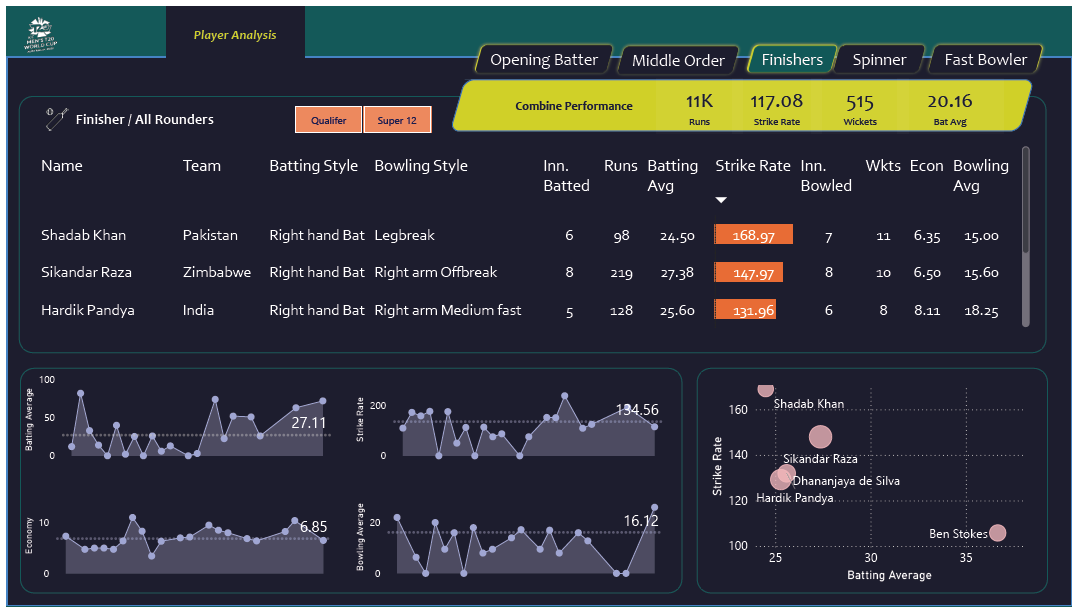

What the dashboard file says about the page in this screenshot:
{"tool":"powerbi","page":{"name":"Finishers/All Rounders","canvas":[1280,720],"ordinal":2},"visuals":[{"type":"shape","box":[0,60,1279.8,660.5],"z":0},{"type":"group","id":"g1","title":"Group 2","box":[82.2,119.9,237.8,30.4],"z":0,"group":"g2"},{"type":"shape","box":[82.2,119.9,237.8,30.4],"z":0,"group":"g1"},{"type":"shape","box":[14.3,107.3,1235.3,309.3],"z":2000},{"type":"image","box":[38.5,117,44.2,35.7],"z":4000},{"type":"shape","box":[15.7,433.8,796.3,271.1],"z":6000},{"type":"shape","box":[829.1,433.8,422.4,271.1],"z":8000},{"type":"tableEx","fields":{"Values":["dim_players.name","dim_players.team","dim_players.battingStyle","dim_players.bowlingStyle","key_measures.Total Innings Batted","key_measures.Total Runs","key_measures.Batting Average","key_measures.Strike Rate","key_measures.Total Innings Bowled","key_measures.Wickets","key_measures.Economy","key_measures.Bowling Average"]},"box":[30,162.7,1204.4,226.9],"z":10000},{"type":"scatterChart","fields":{"Y":["key_measures.Strike Rate"],"X":["key_measures.Batting Average"],"Category":["fact_batting_summary.batsmanName"],"Size":["key_measures.Total Runs"]},"box":[840.5,442.4,393.8,252.6],"z":12000},{"type":"areaChart","fields":{"Y":["key_measures.Batting Average"],"Category":["dim_match_summary.matchDate.Variation.Date Hierarchy.Year","dim_match_summary.matchDate.Variation.Date Hierarchy.Month","dim_match_summary.matchDate.Variation.Date Hierarchy.Day"]},"box":[16.1,434.4,379,119.8],"z":13000},{"type":"areaChart","fields":{"Category":["dim_match_summary.matchDate.Variation.Date Hierarchy.Year","dim_match_summary.matchDate.Variation.Date Hierarchy.Month","dim_match_summary.matchDate.Variation.Date Hierarchy.Day"],"Y":["key_measures.Economy"]},"box":[15.7,575.1,379.6,119.9],"z":14000},{"type":"areaChart","fields":{"Category":["dim_match_summary.matchDate.Variation.Date Hierarchy.Year","dim_match_summary.matchDate.Variation.Date Hierarchy.Month","dim_match_summary.matchDate.Variation.Date Hierarchy.Day"],"Y":["key_measures.Bowling Average"]},"box":[413.8,575.1,379.6,119.9],"z":15000},{"type":"areaChart","fields":{"Category":["dim_match_summary.matchDate.Variation.Date Hierarchy.Year","dim_match_summary.matchDate.Variation.Date Hierarchy.Month","dim_match_summary.matchDate.Variation.Date Hierarchy.Day"],"Y":["key_measures.Strike Rate"]},"box":[413.8,433.8,379.6,119.9],"z":16000},{"type":"group","id":"g2","title":"Group 1","box":[82.2,119.9,237.8,30.4],"z":18000},{"type":"slicer","fields":{"Values":["dim_match_summary.Stages"]},"box":[320,110.8,214.5,48.3],"z":19000},{"type":"shape","box":[532.7,87.6,702.6,62.6],"z":19375},{"type":"card","fields":{"Values":["key_measures.Batting Average"]},"box":[1070.8,85.8,126.9,66.1],"z":19468},{"type":"card","fields":{"Values":["key_measures.Strike Rate"]},"box":[872.4,85.8,107.3,66.1],"z":19562},{"type":"card","fields":{"Values":["key_measures.Total Runs"]},"box":[781.2,85.8,103.7,66.1],"z":19609},{"type":"card","fields":{"Values":["key_measures.Wickets"]},"box":[967.2,85.8,116.2,66.1],"z":19656},{"type":"shape","box":[588.2,100.1,187.7,37.5],"z":19750},{"type":"image","box":[15.7,4.3,48.5,58.5],"z":20000},{"type":"actionButton","box":[729.2,42.8,155.5,41.4],"z":21000},{"type":"actionButton","box":[884.7,42,118.4,41.4],"z":22000},{"type":"actionButton","box":[988.9,42,119.9,41],"z":23000},{"type":"actionButton","box":[1103.1,42,147,41.4],"z":24000},{"type":"shape","box":[533.7,88.5,700.6,62.8],"z":24500},{"type":"actionButton","title":"Button Player Ana selected","box":[191,0,166,66],"z":25000},{"type":"image","box":[38.5,117,44.2,35.7],"z":26000},{"type":"actionButton","box":[557.9,42,175.5,41.4],"z":27000}]}

Visuals, with their boxes in screenshot pixels (x1, y1, x2, y2), scaled from the page's 1280x720 canvas onto the 1078x613 screenshot:
shape: [left=0, top=51, right=1077, bottom=612]
"Group 2" group: [left=69, top=102, right=270, bottom=128]
shape: [left=69, top=102, right=270, bottom=128]
shape: [left=12, top=91, right=1052, bottom=355]
image: [left=32, top=100, right=70, bottom=130]
shape: [left=13, top=369, right=684, bottom=600]
shape: [left=698, top=369, right=1054, bottom=600]
tableEx - dim_players.name x dim_players.team: [left=25, top=139, right=1040, bottom=332]
scatterChart - key_measures.Strike Rate x key_measures.Batting Average: [left=708, top=377, right=1040, bottom=592]
areaChart - key_measures.Batting Average x dim_match_summary.matchDate.Variation.Date Hierarchy.Year: [left=14, top=370, right=333, bottom=472]
areaChart - dim_match_summary.matchDate.Variation.Date Hierarchy.Year x dim_match_summary.matchDate.Variation.Date Hierarchy.Month: [left=13, top=490, right=333, bottom=592]
areaChart - dim_match_summary.matchDate.Variation.Date Hierarchy.Year x dim_match_summary.matchDate.Variation.Date Hierarchy.Month: [left=348, top=490, right=668, bottom=592]
areaChart - dim_match_summary.matchDate.Variation.Date Hierarchy.Year x dim_match_summary.matchDate.Variation.Date Hierarchy.Month: [left=348, top=369, right=668, bottom=471]
"Group 1" group: [left=69, top=102, right=270, bottom=128]
slicer - dim_match_summary.Stages: [left=270, top=94, right=450, bottom=135]
shape: [left=449, top=75, right=1040, bottom=128]
card - key_measures.Batting Average: [left=902, top=73, right=1009, bottom=129]
card - key_measures.Strike Rate: [left=735, top=73, right=825, bottom=129]
card - key_measures.Total Runs: [left=658, top=73, right=745, bottom=129]
card - key_measures.Wickets: [left=815, top=73, right=912, bottom=129]
shape: [left=495, top=85, right=653, bottom=117]
image: [left=13, top=4, right=54, bottom=53]
actionButton: [left=614, top=36, right=745, bottom=72]
actionButton: [left=745, top=36, right=845, bottom=71]
actionButton: [left=833, top=36, right=934, bottom=71]
actionButton: [left=929, top=36, right=1053, bottom=71]
shape: [left=449, top=75, right=1040, bottom=129]
"Button Player Ana selected" actionButton: [left=161, top=0, right=301, bottom=56]
image: [left=32, top=100, right=70, bottom=130]
actionButton: [left=470, top=36, right=618, bottom=71]
